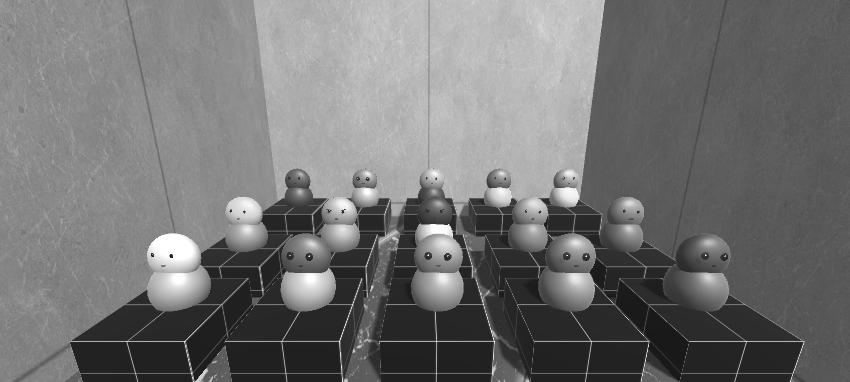blob_atento: (662, 234, 731, 313), (280, 233, 341, 315), (538, 234, 598, 314), (411, 234, 466, 316), (352, 169, 378, 209)
blob_normal: (146, 234, 207, 313), (598, 197, 648, 250), (223, 197, 269, 254), (509, 197, 549, 248), (482, 168, 517, 212), (548, 169, 581, 209), (284, 169, 313, 207), (419, 169, 443, 202)
blob_raiva: (322, 197, 359, 252), (416, 199, 456, 247)
